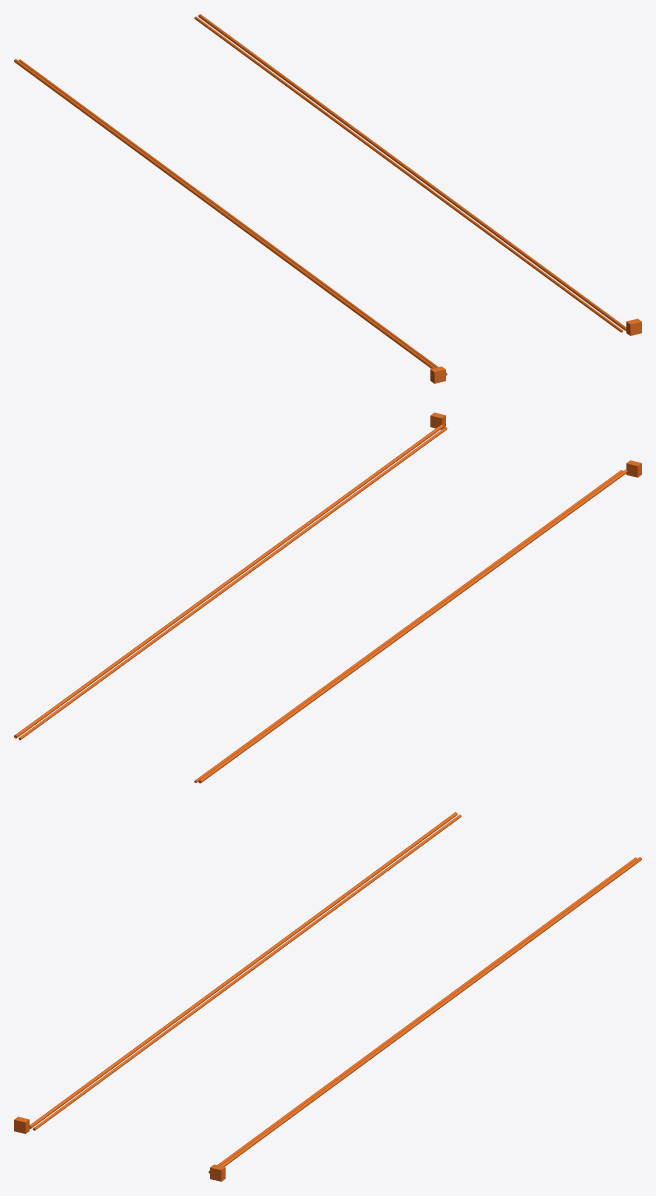
The model's file is drainase.glb.
3 views of the same model, one above another, from view 1: azimuth 30°, elevation 25°; view 2: azimuth 150°, elevation 25°; view 3: azimuth 330°, elevation 25° (orthographic).
Visible parts, largest first — view 1: drainase; view 2: drainase; view 3: drainase.
Part boxes in pixels (x1=…): drainase: x1=14, y1=14, x2=641, y2=383; drainase: x1=14, y1=412, x2=641, y2=783; drainase: x1=14, y1=812, x2=641, y2=1181.
Size of the model in its own units: 17 by 0.9 by 61.1.
